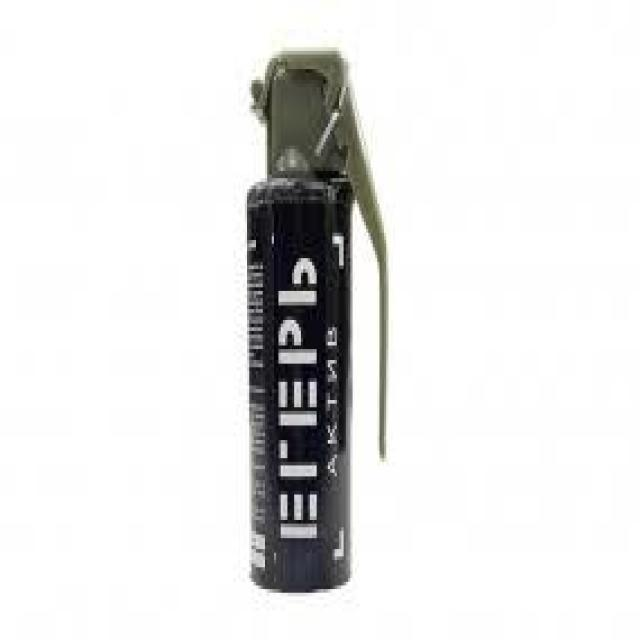grenade: (234, 29, 390, 596)
